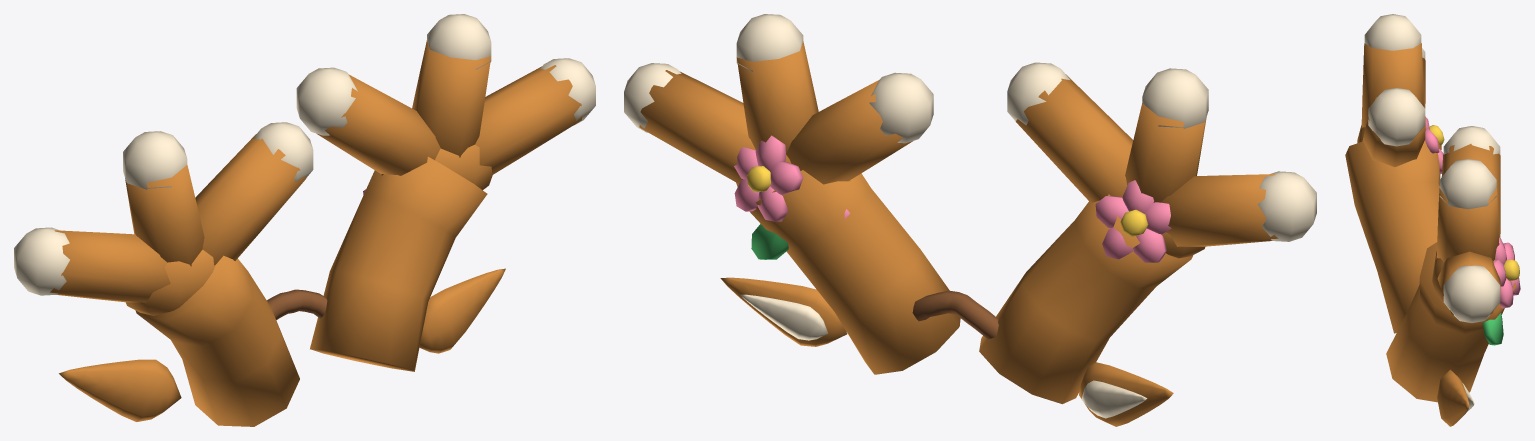
File: bois_cerf.fbx
3 renders of one model, left to right at view 1: azimuth 30°, elevation 25°; view 2: azimuth 150°, elevation 25°; view 3: azimuth 270°, elevation 25°, orthographic. The views are drawn at different scales.
Visible parts, largest first — view 1: Bois; view 2: Bois, Anim_Fleur_3, Anim_Fleur_1; view 3: Bois, Anim_Fleur_1, Anim_Fleur_3.
Part boxes in pixels (x1,y1,x2,y2): Bois: [14, 14, 595, 426]; Bois: [624, 14, 1316, 426]; Anim_Fleur_3: [1095, 180, 1171, 262]; Anim_Fleur_1: [734, 135, 803, 221]; Bois: [1345, 14, 1515, 426]; Anim_Fleur_1: [1493, 237, 1520, 308]; Anim_Fleur_3: [1425, 117, 1444, 174].
Size of the model in its own units: 1.43 by 0.7135 by 0.4109.
